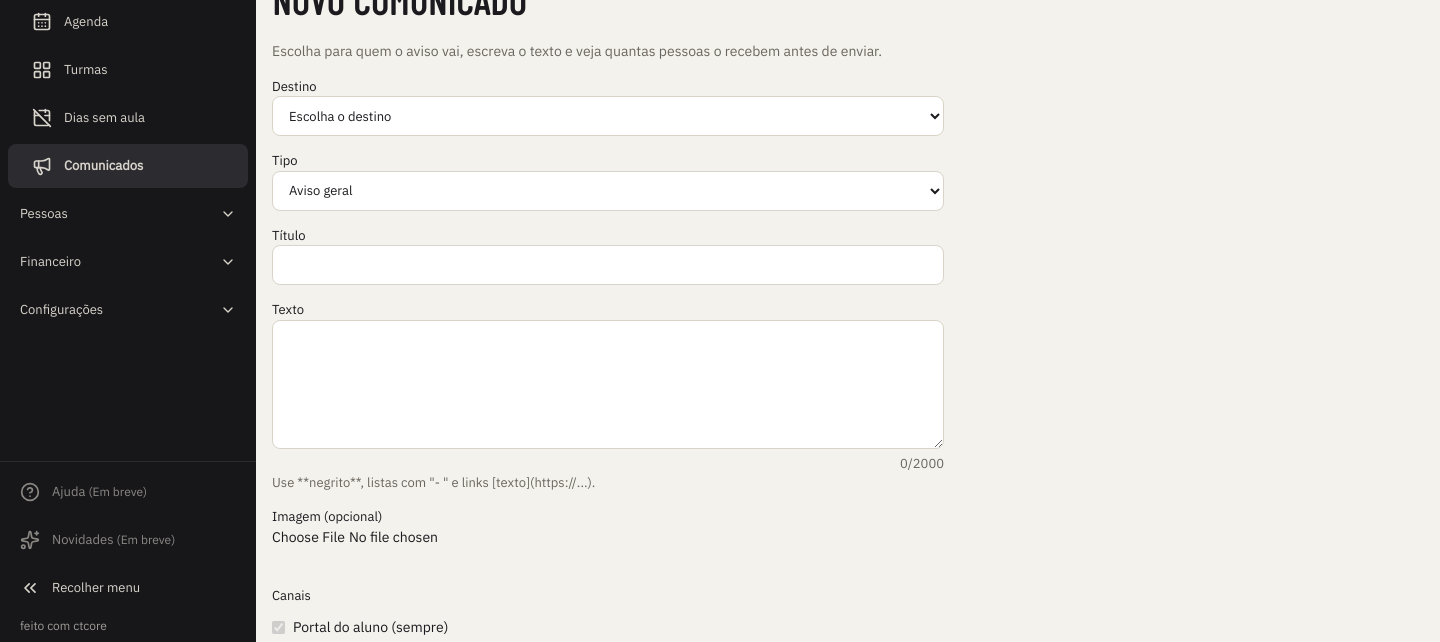
it: NewAnnouncementPage (RF-COM-02) › CA23: sem destino não há prévia e Enviar fica desabilitado; com destino a prévia conta pessoas e canais e se atualiza com os canais
Step 1. Select "Jiu-Jitsu Adulto" in the dropdown labelled "Destino" → (608, 116), box [272,96,944,136]
(page scrolled)
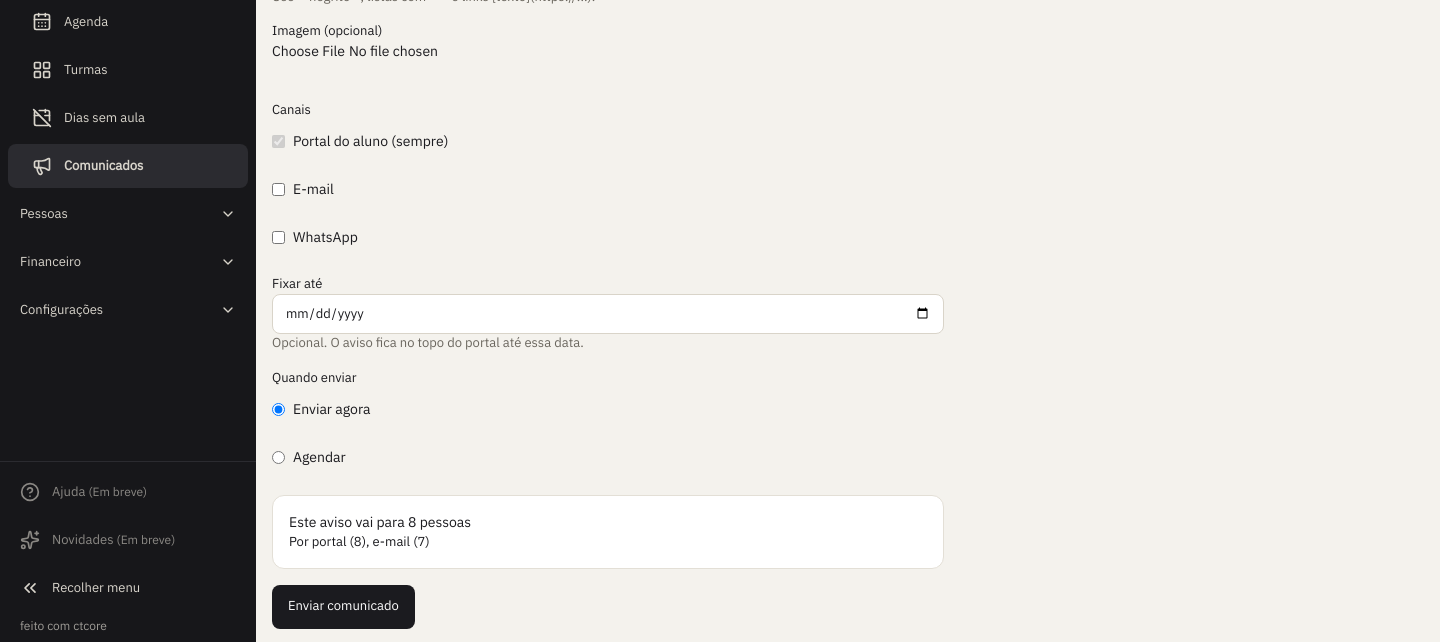
Check: the text "Este aviso vai para 8 pessoas" is shown, box [289,513,471,531]
Check: the text "Por portal (8), e-mail (7)" is shown, box [289,533,430,550]
Check: the button "Enviar comunicado" is enabled, box [272,585,415,629]
Step 2. Click the checkbox labelled "WhatsApp" → (278, 237), box [272,231,285,244]
(page scrolled)
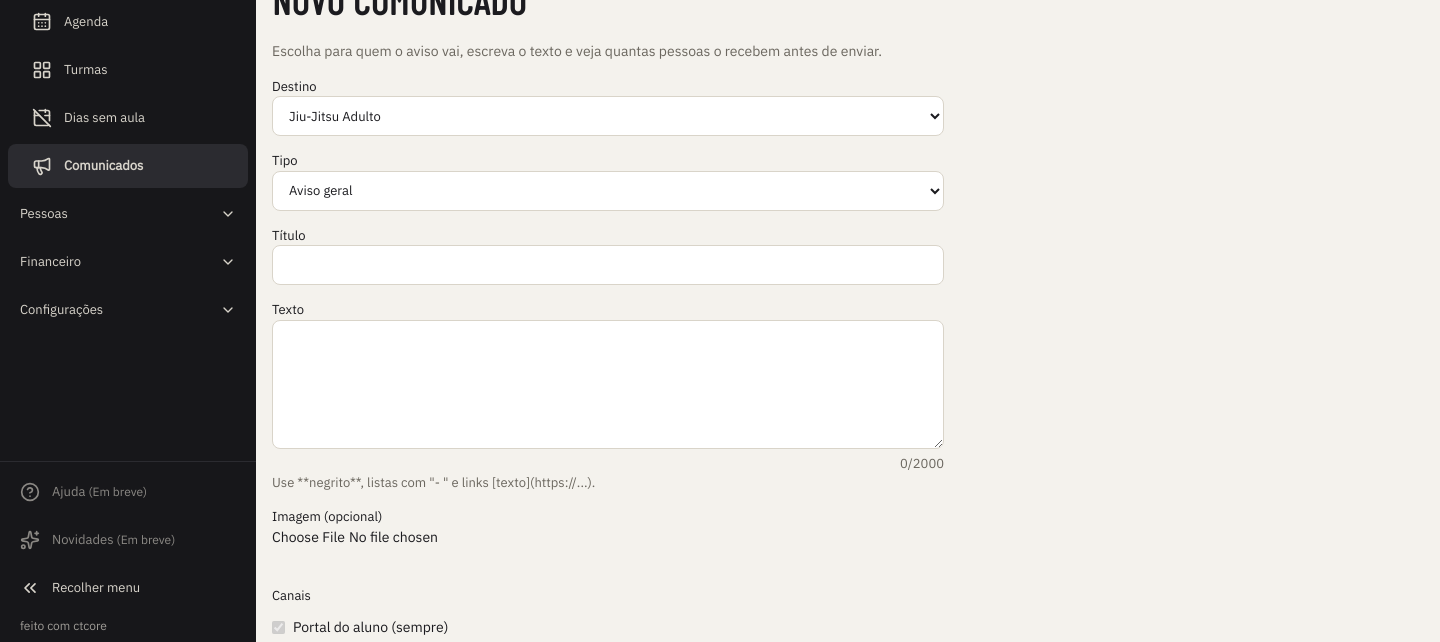
Step 3. Select "Unidade Centro" in the dropdown labelled "Destino" → (608, 116), box [272,96,944,136]
(page scrolled)
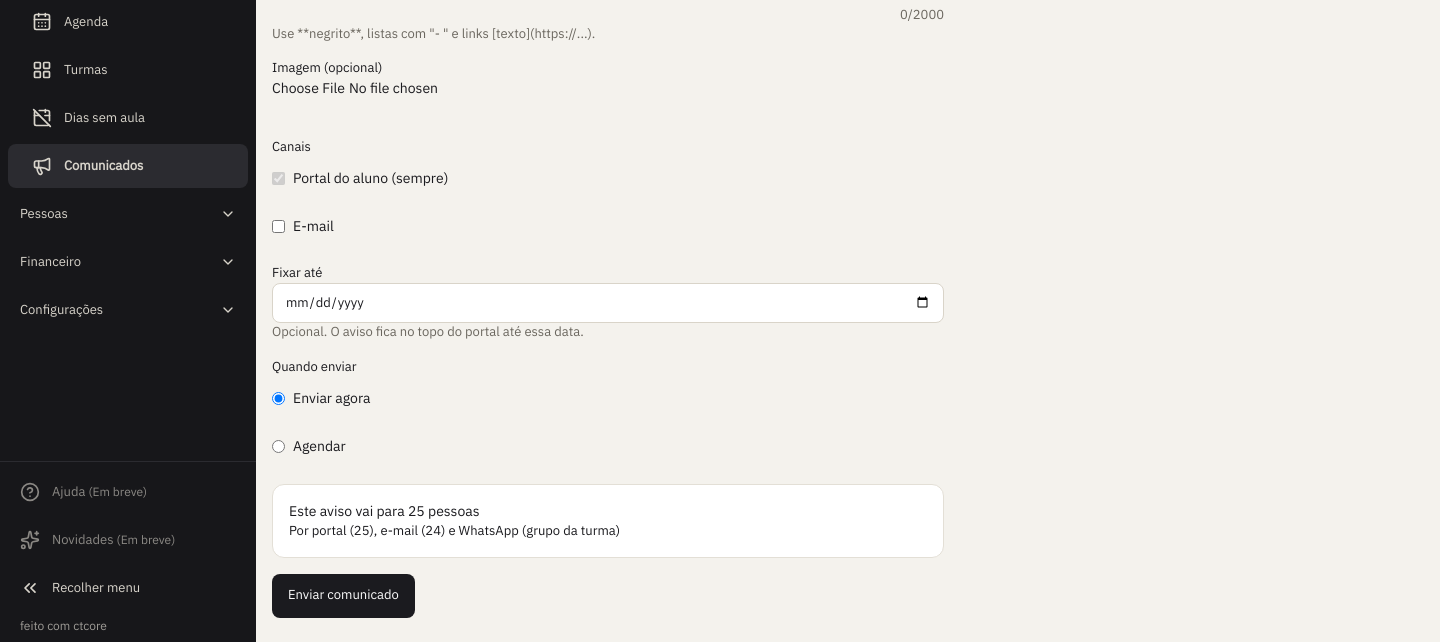
Check: the text "Este aviso vai para 25 pessoas" is shown, box [289,502,480,520]
